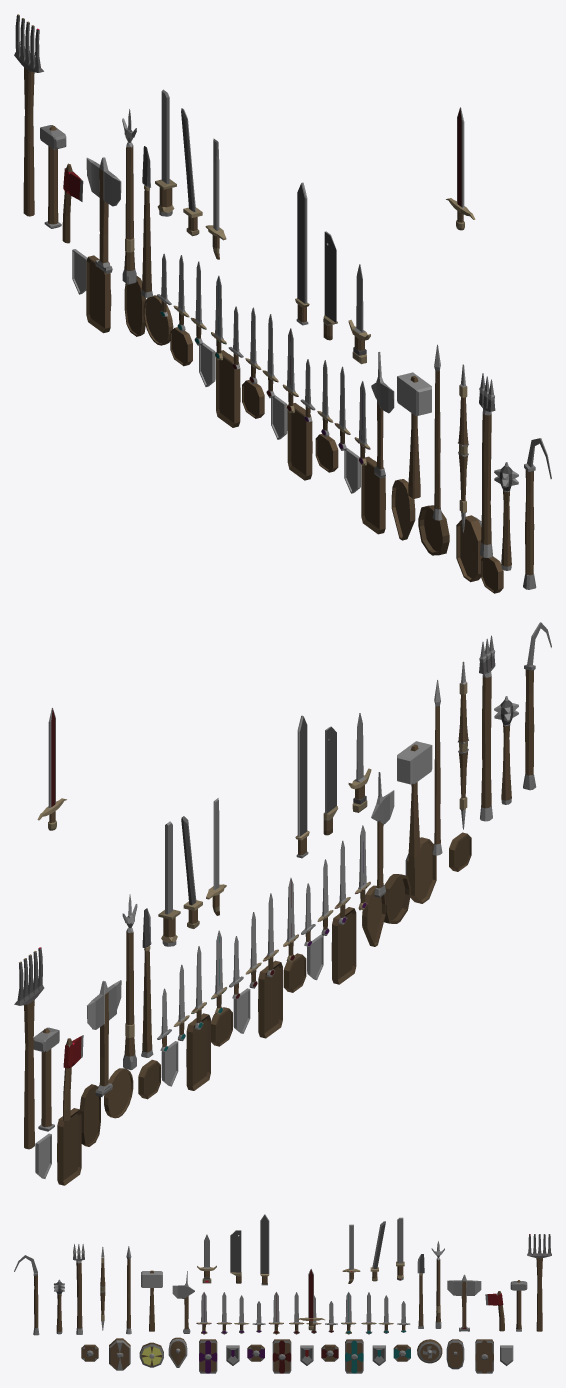
Rendered from Swords Pack.fbx.
The picture shows the model from 3 angles, top to bottom: view 1: azimuth 30°, elevation 25°; view 2: azimuth 150°, elevation 25°; view 3: azimuth 270°, elevation 25°; orthographic projection. The views are drawn at different scales.
Parts seen in each view (by area): view 1: Grave Scythe, Ironbite, War Trident, Skullsplitter, Dawn Guard (Red Blood ), Dawn Guard, Dawn Guard (Soul), Dawn Guard (Storm), Dawn Spear, Downfang, Reaper's Hook, Temple Guard (+21 smaller); view 2: Grave Scythe, Ironbite, War Trident, Skullsplitter, Dawn Guard, Dawn Guard (Storm), Dawn Guard (Red Blood ), Dawn Guard (Soul), Dawn Spear, Downfang, Reaper's Hook, Titan Maul (+21 smaller); view 3: Grave Scythe, Skullsplitter, Dawn Guard (Red Blood ), Dawn Guard, Dawn Guard (Soul), Dawn Guard (Storm), Downfang, Temple Guard, Ironbite, War Trident, Crimson Oath, Lion Sigil Shield (+31 smaller).
Part boxes in pixels (x1,y1,x2,y2): Grave Scythe: (14,14,43,216); Ironbite: (397,372,431,498); War Trident: (479,373,495,557); Skullsplitter: (86,157,121,273); Dawn Guard (Red Blood ): (287,403,312,480); Dawn Guard: (86,255,111,333); Dawn Guard (Soul): (216,350,240,427); Dawn Guard (Storm): (361,456,385,534); Dawn Spear: (122,109,136,284); Downfang: (295,182,309,325); Reaper's Hook: (523,438,551,589); Temple Guard: (456,515,482,582); Grave Scythe: (14,947,44,1149); Ironbite: (397,741,432,867); War Trident: (479,635,495,821); Skullsplitter: (87,980,121,1096); Dawn Guard: (57,1108,81,1185); Dawn Guard (Storm): (331,907,356,984); Dawn Guard (Red Blood ): (258,960,282,1038); Dawn Guard (Soul): (186,1013,210,1090); Dawn Spear: (122,894,137,1069); Downfang: (295,715,309,858); Reaper's Hook: (523,622,551,790); Titan Maul: (33,1027,59,1131); Grave Scythe: (527,1234,551,1331); Skullsplitter: (447,1274,481,1331); Dawn Guard (Red Blood ): (272,1339,291,1373); Dawn Guard: (475,1339,493,1373); Dawn Guard (Soul): (345,1339,363,1373); Dawn Guard (Storm): (199,1339,217,1373); Downfang: (260,1214,269,1285); Temple Guard: (109,1338,130,1370); Ironbite: (141,1270,162,1331); War Trident: (73,1244,84,1334); Crimson Oath: (230,1230,241,1283); Lion Sigil Shield: (139,1342,163,1367).
Size of the model in its own units: 217 by 295 by 930.
